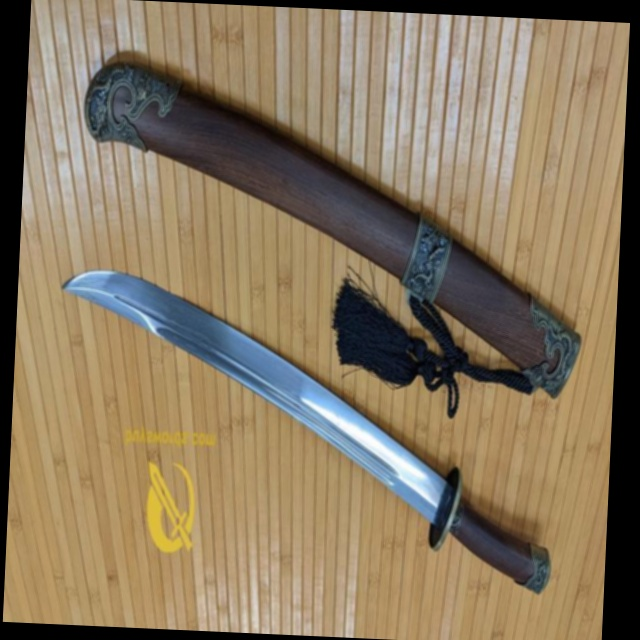Sharp-Object: (32, 270, 581, 593)
